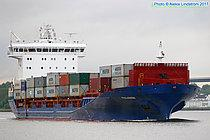Ship: (3, 22, 204, 127)
